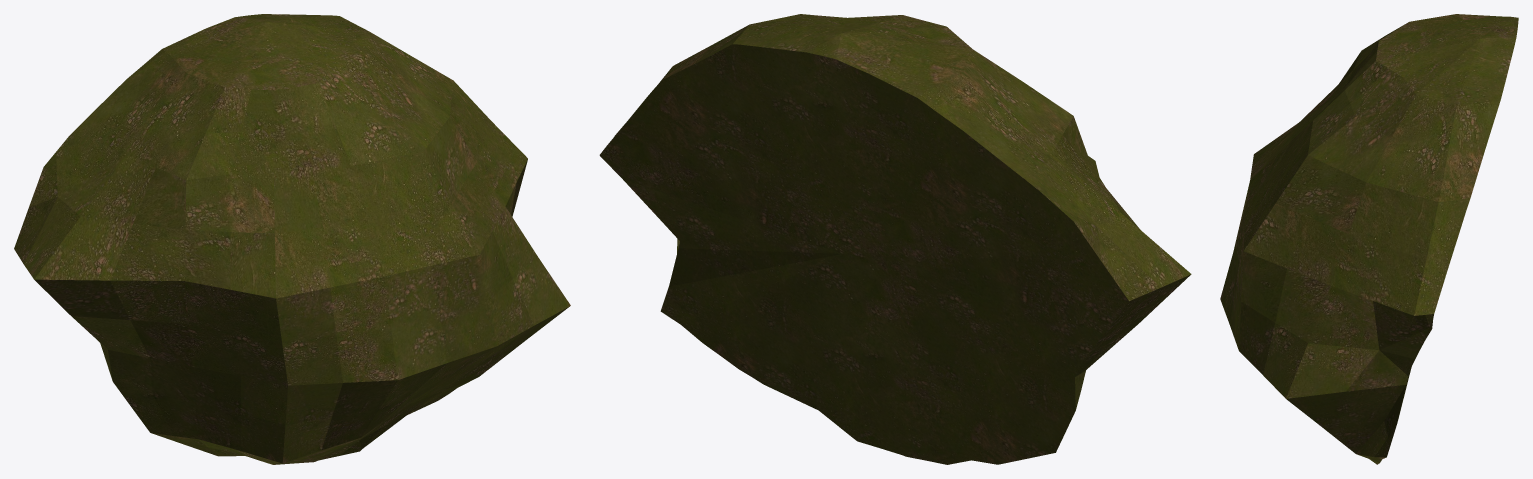
The model's file is boulder_2.glb.
3 views of the same model, side by side, from view 1: azimuth 30°, elevation 25°; view 2: azimuth 150°, elevation 25°; view 3: azimuth 270°, elevation 25° (orthographic). The views are drawn at different scales.
Parts seen in each view (by area): view 1: boulder; view 2: boulder; view 3: boulder.
Boxes of the visible parts, box(x1,y1,x2,y2) form: boulder: box(14, 14, 570, 464); boulder: box(599, 14, 1191, 464); boulder: box(1220, 14, 1518, 464).
Size of the model in its own units: 2.95 by 2.26 by 1.54.
Materials: 1 (1 with a texture image).
